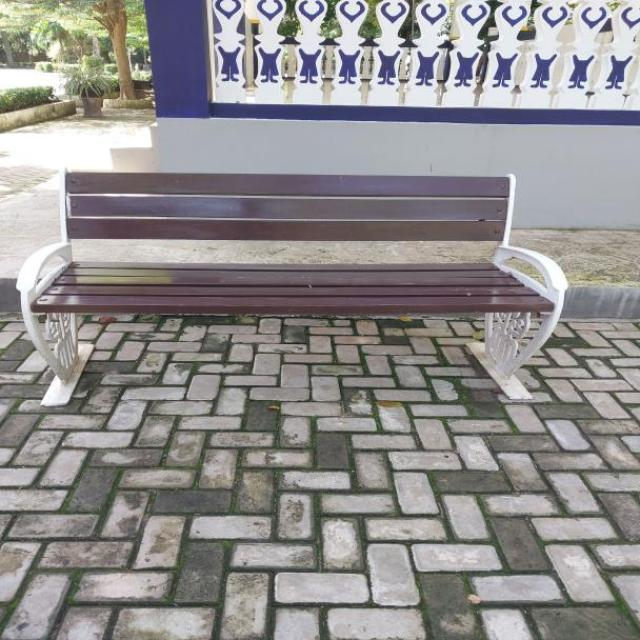bench ahead at: (13, 164, 568, 408)
